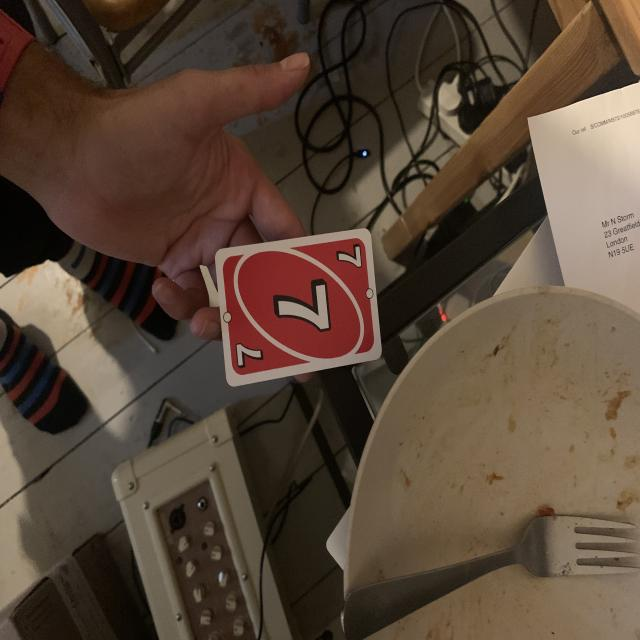lred-7: (332, 241, 367, 273)
